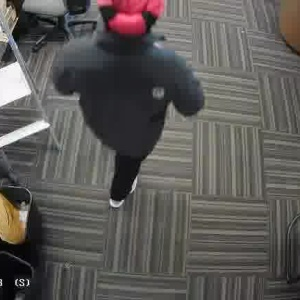person: (62, 5, 186, 193)
